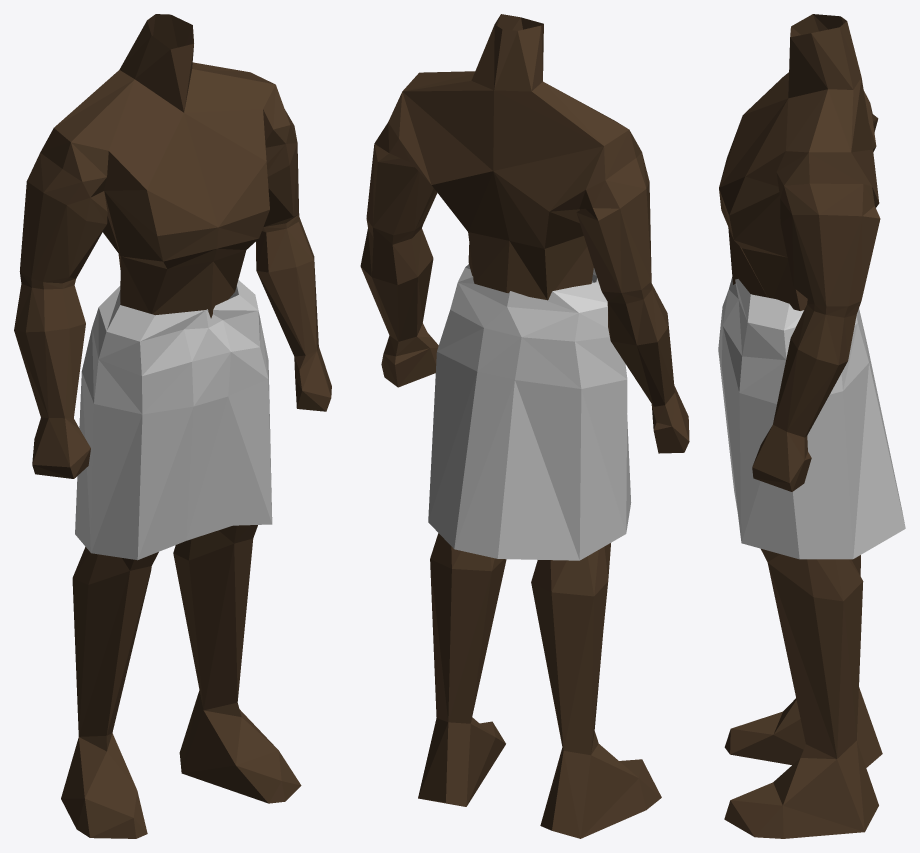
The model's file is HUM_IE_FLEX_INSTRUMENT.OBJ.
3 renders of one model, left to right at view 1: azimuth 30°, elevation 25°; view 2: azimuth 150°, elevation 25°; view 3: azimuth 270°, elevation 25°, orthographic.
Visible parts, largest first — view 1: HUM_IE_FLEX_INSTRUMENT; view 2: HUM_IE_FLEX_INSTRUMENT; view 3: HUM_IE_FLEX_INSTRUMENT.
Part boxes in pixels (x1,y1,x2,y2): HUM_IE_FLEX_INSTRUMENT: (14,14,331,838); HUM_IE_FLEX_INSTRUMENT: (360,14,689,838); HUM_IE_FLEX_INSTRUMENT: (718,14,905,838).
Bounding box in the file's own units: 0.6986 × 1.71 × 0.3738.
